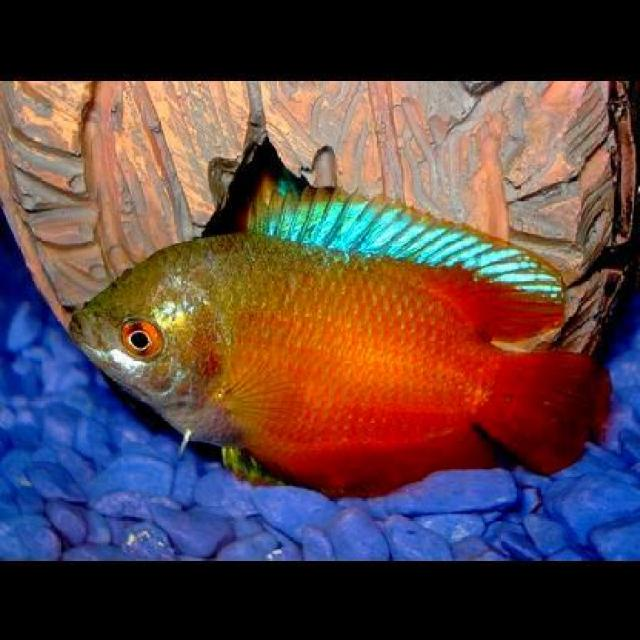Gourami: (66, 168, 614, 500)
